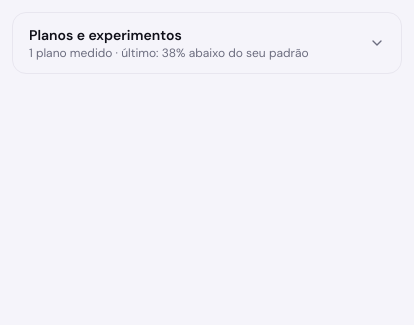
Scenario: acordeão 'Planos e experimentos' em Metas › aberto: último resultado com uma etiqueta graduada, histórico e o botão de criar
The image size is (414, 325).
Later steps or results of the test are not shown.
Click the button "Planos e experimentos": (207, 43) [13,13,401,73]
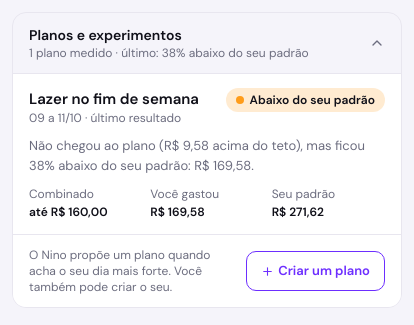
Expected: the text "Abaixo do seu padrão" is shown, [226,88,385,112]
Expected: the text with test id "day-plan-last" shows "38% abaixo do seu padrão", [29,137,365,174]
Expected: the element with test id "day-plan-numbers" reads "Combinado até R$ 160,00 Você gastou R$ 169,58 Seu padrão R$ 271,62", [29,186,385,220]
